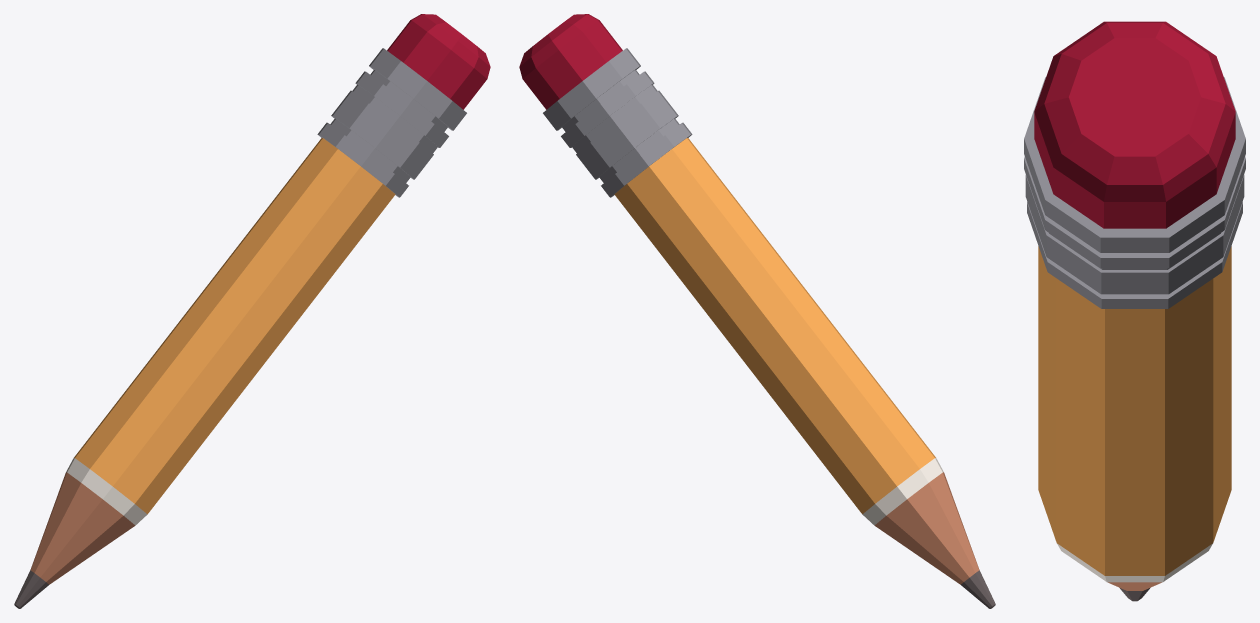
The model's file is PENCIL.fbx.
3 renders of one model, left to right at view 1: azimuth 30°, elevation 25°; view 2: azimuth 150°, elevation 25°; view 3: azimuth 270°, elevation 25°, orthographic. The views are drawn at different scales.
Visible parts, largest first — view 1: Cylinder; view 2: Cylinder; view 3: Cylinder.
Part boxes in pixels (x1=…): Cylinder: x1=14, y1=14, x2=490, y2=608; Cylinder: x1=519, y1=14, x2=995, y2=608; Cylinder: x1=1024, y1=21, x2=1245, y2=601.
Bounding box in the file's own units: 320 × 320 × 65.86.
1 material, 1 textured.
